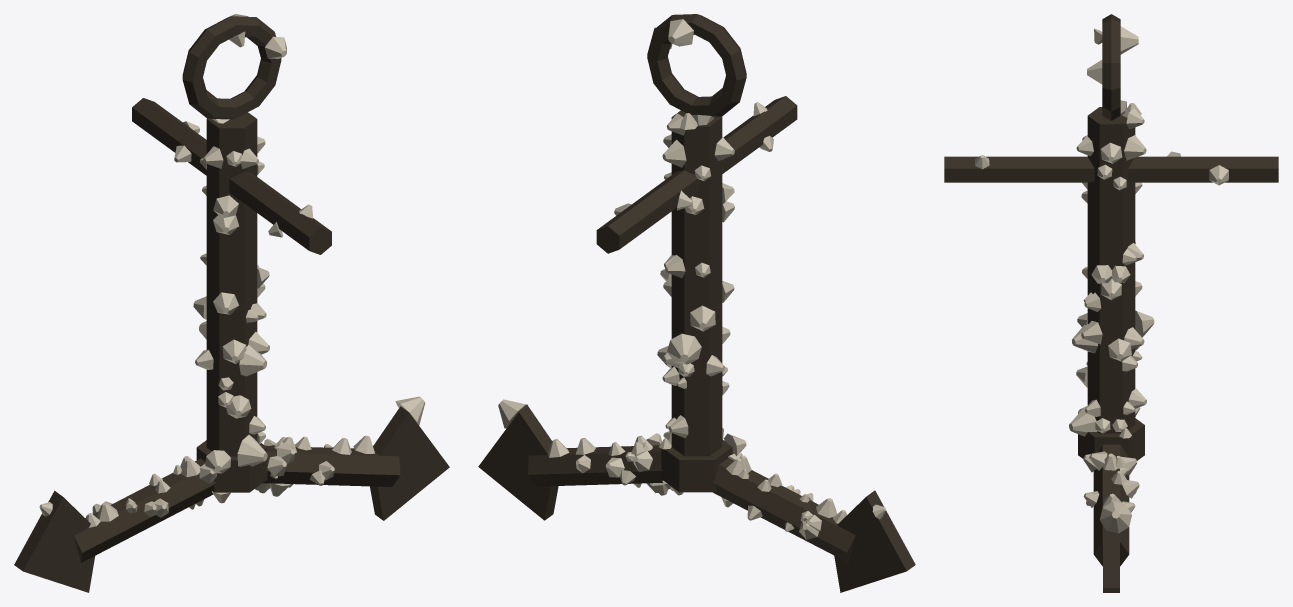
The model's file is SunkenAnchor.fbx.
3 renders of one model, left to right at view 1: azimuth 30°, elevation 25°; view 2: azimuth 150°, elevation 25°; view 3: azimuth 270°, elevation 25°, orthographic. The views are drawn at different scales.
Visible parts, largest first — view 1: Anchor_Shank, Anchor_Stock, Anchor_Ring, Anchor_Fluke_L, Anchor_Fluke_R, Anchor_Arm_L, Anchor_Arm_R, Anchor_Crown, Barnacle_002, Barnacle_007; view 2: Anchor_Shank, Anchor_Stock, Anchor_Ring, Anchor_Fluke_L, Anchor_Arm_L, Anchor_Fluke_R, Anchor_Arm_R, Anchor_Crown, Barnacle_006, Barnacle_099; view 3: Anchor_Shank, Anchor_Stock, Anchor_Arm_R, Anchor_Ring, Anchor_Crown, Anchor_Fluke_R, Barnacle_009, Barnacle_002.
Boxes of the visible parts, box(x1,y1,x2,y2) form: Anchor_Shank: box(206, 112, 257, 456); Anchor_Stock: box(132, 98, 331, 254); Anchor_Ring: box(182, 16, 281, 119); Anchor_Fluke_L: box(14, 490, 95, 592); Anchor_Fluke_R: box(370, 406, 449, 520); Anchor_Arm_L: box(74, 458, 216, 562); Anchor_Arm_R: box(263, 445, 400, 486); Anchor_Crown: box(196, 440, 267, 492); Barnacle_002: box(237, 434, 267, 466); Barnacle_007: box(239, 345, 267, 376); Anchor_Shank: box(671, 110, 722, 456); Anchor_Stock: box(596, 96, 797, 253); Anchor_Ring: box(647, 14, 746, 116); Anchor_Fluke_L: box(834, 490, 915, 592); Anchor_Arm_L: box(712, 458, 855, 562); Anchor_Fluke_R: box(478, 405, 558, 520); Anchor_Arm_R: box(527, 445, 662, 486); Anchor_Crown: box(661, 439, 732, 492); Barnacle_006: box(667, 333, 701, 364); Barnacle_099: box(668, 19, 693, 46); Anchor_Shank: box(1087, 107, 1135, 433); Anchor_Stock: box(944, 156, 1278, 182); Anchor_Arm_R: box(1093, 444, 1129, 566); Anchor_Ring: box(1102, 14, 1120, 120); Anchor_Crown: box(1078, 418, 1144, 460); Anchor_Fluke_R: box(1103, 526, 1119, 592); Barnacle_009: box(1100, 501, 1131, 533); Barnacle_002: box(1069, 406, 1097, 436).
Bounding box in the file's own units: 389 × 468 × 280.
